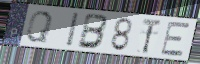8: (110, 17, 134, 52)
B: (76, 12, 110, 50)
E: (159, 21, 191, 58)
I: (65, 11, 81, 48)
Q: (24, 10, 54, 44)
T: (140, 17, 163, 55)
